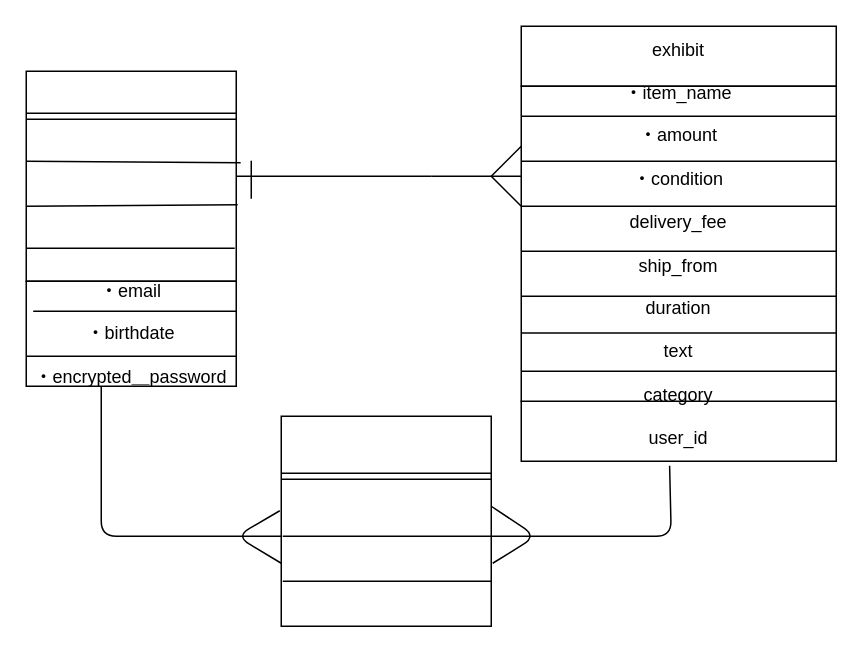
Image size: 864x653. Some labels were removed from this diagram. The shapes that lost their labels are listed below. From the top down, each one's box as (x1, y1, x2, y2) in pixels, then its label:
(25, 70, 236, 281): users ・firstname ・surname ・firstname_kana ・surname_kana
(280, 415, 491, 626): comments ・comment＿text ・tweet_ text ・user_ id
